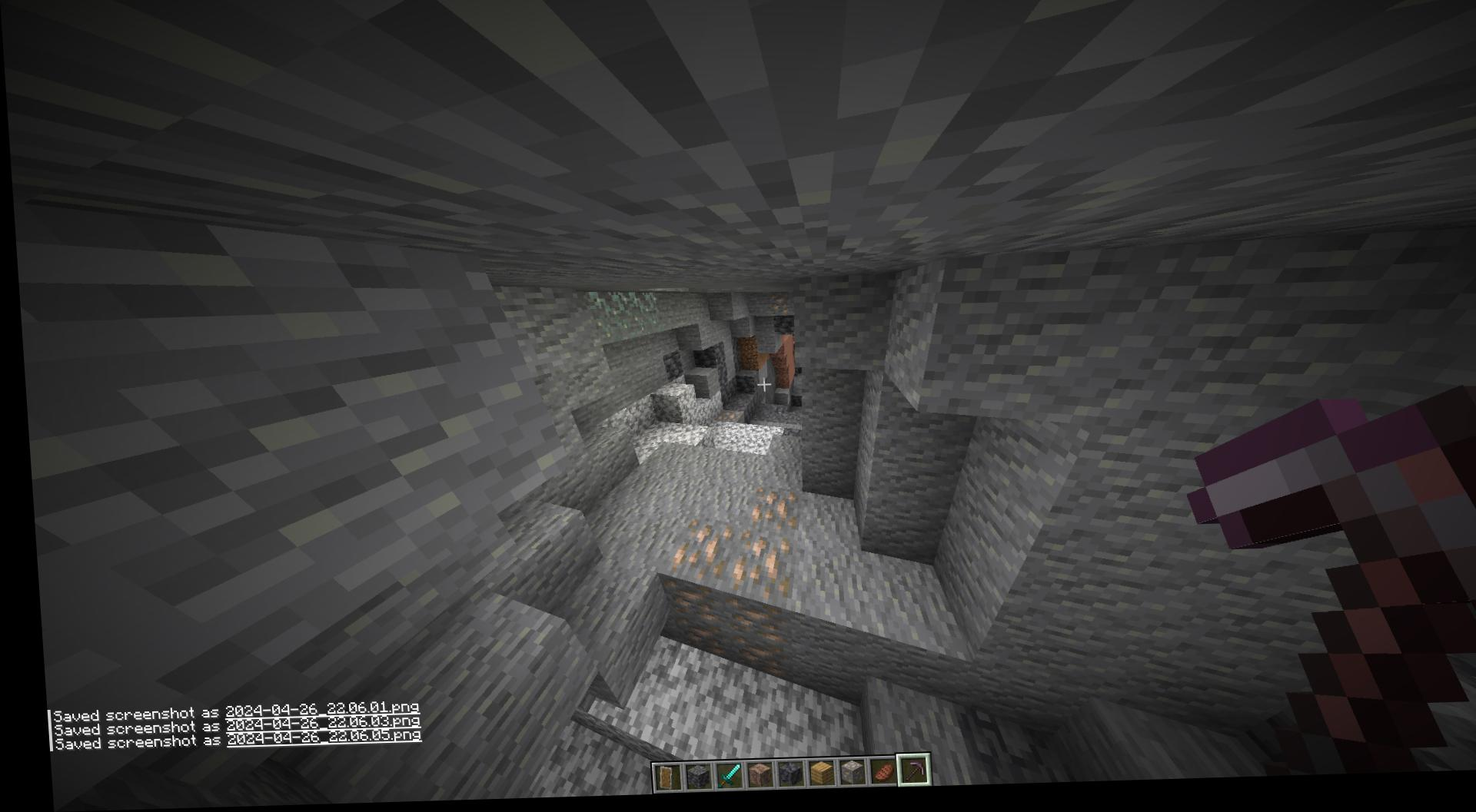iron ore: (716, 532, 790, 603), (655, 522, 728, 589), (728, 487, 800, 540), (659, 579, 721, 631), (719, 605, 782, 649), (714, 641, 778, 677), (668, 621, 721, 661), (758, 295, 793, 320), (707, 407, 738, 433)
